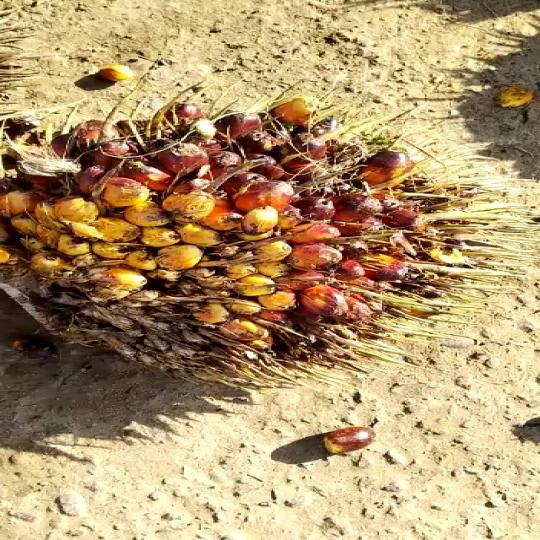masak: (0, 90, 487, 399)
